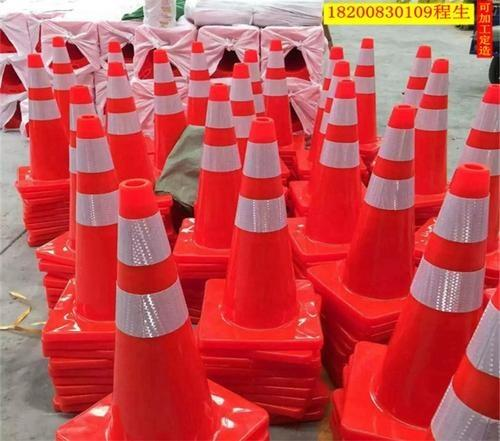cone_barrel: (364, 161, 490, 426), (96, 181, 220, 440), (214, 120, 308, 333), (334, 103, 416, 300), (63, 114, 119, 328), (301, 79, 363, 248), (429, 296, 497, 434), (186, 83, 242, 250), (103, 41, 152, 177), (21, 53, 68, 185), (410, 58, 450, 196), (148, 51, 185, 165), (260, 37, 294, 140), (350, 35, 379, 145), (184, 40, 211, 129), (227, 61, 255, 126)
